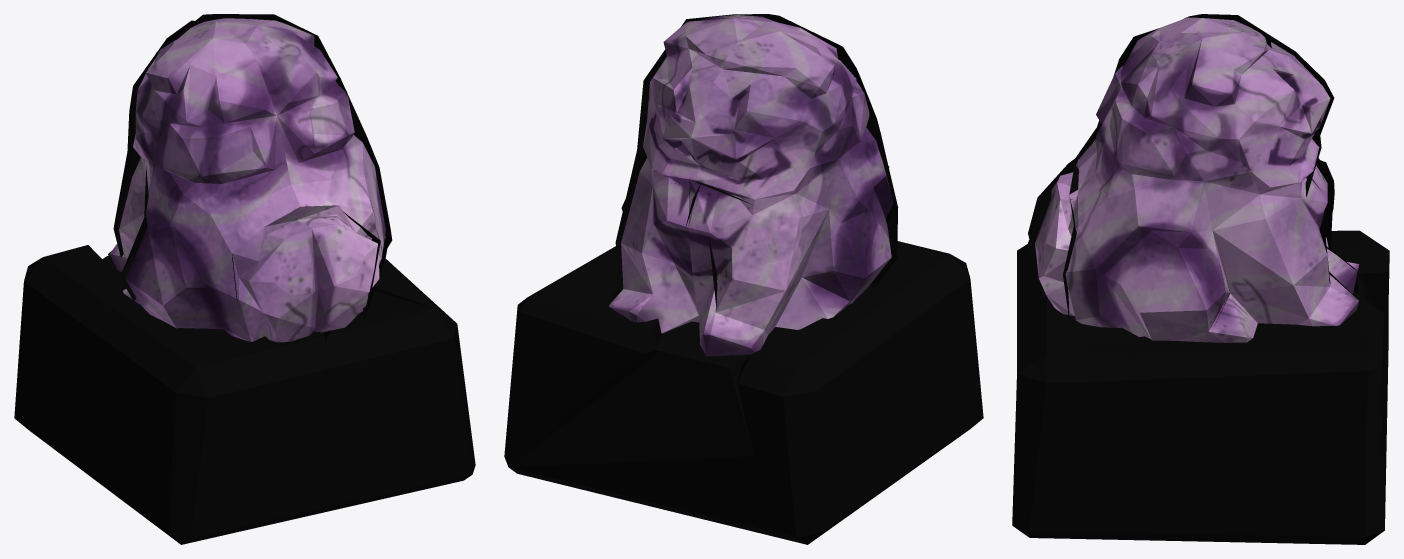
The model's file is s0_Str_Ruins_02__1__01.glb.
3 views of the same model, side by side, from view 1: azimuth 30°, elevation 25°; view 2: azimuth 150°, elevation 25°; view 3: azimuth 270°, elevation 25° (orthographic). The views are drawn at different scales.
Visible parts, largest first — view 1: node_Str_Ruins_02_StoneOutline, node_Str_Ruins_02 (1); view 2: node_Str_Ruins_02_StoneOutline, node_Str_Ruins_02 (1); view 3: node_Str_Ruins_02_StoneOutline, node_Str_Ruins_02 (1).
Boxes of the visible parts, bbox=[...] form: node_Str_Ruins_02_StoneOutline: bbox=[14, 245, 475, 544]; node_Str_Ruins_02 (1): bbox=[108, 14, 392, 342]; node_Str_Ruins_02_StoneOutline: bbox=[504, 241, 983, 544]; node_Str_Ruins_02 (1): bbox=[607, 14, 898, 356]; node_Str_Ruins_02_StoneOutline: bbox=[1012, 230, 1389, 544]; node_Str_Ruins_02 (1): bbox=[1028, 14, 1359, 342].
Size of what is drawn, in the model's own units: 1.95 by 2.53 by 1.96.
2 materials, 1 textured.
